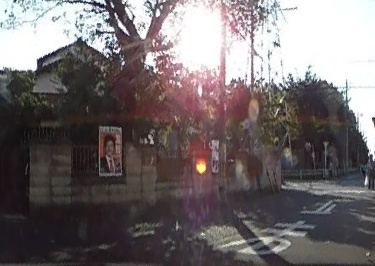person: (364, 151, 375, 188), (327, 161, 335, 179)
